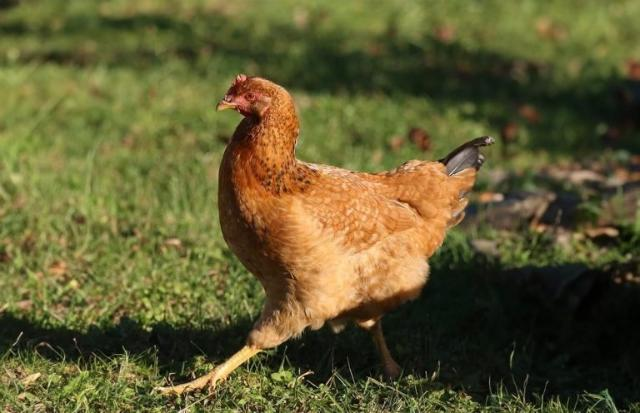Chicken: (156, 72, 495, 397)
